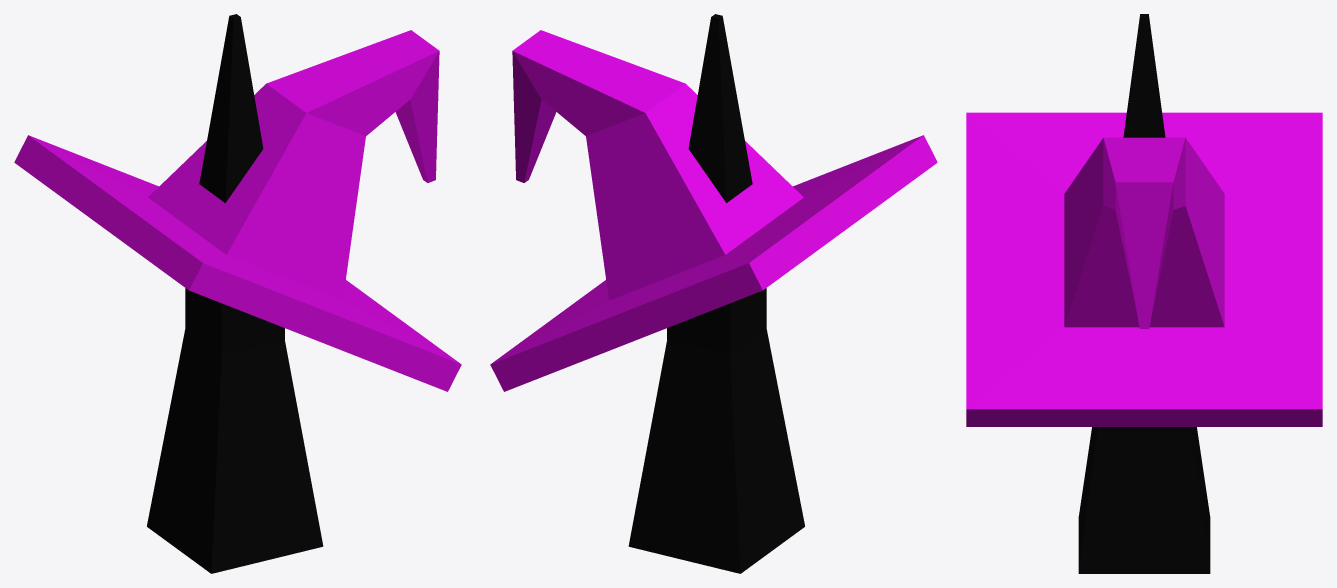
File: teseractic.fbx
The picture shows the model from 3 angles, left to right: view 1: azimuth 30°, elevation 25°; view 2: azimuth 150°, elevation 25°; view 3: azimuth 270°, elevation 25°; orthographic projection.
Visible parts, largest first — view 1: Cube.001, Cube; view 2: Cube.001, Cube; view 3: Cube.001, Cube.
Boxes of the visible parts, x1,y1,x2,y2 form: Cube.001: [14, 30, 461, 391]; Cube: [147, 14, 323, 573]; Cube.001: [490, 30, 937, 391]; Cube: [628, 14, 804, 573]; Cube.001: [966, 112, 1322, 426]; Cube: [1078, 14, 1210, 573].
Bounding box in the file's own units: 148 × 221 × 135.
